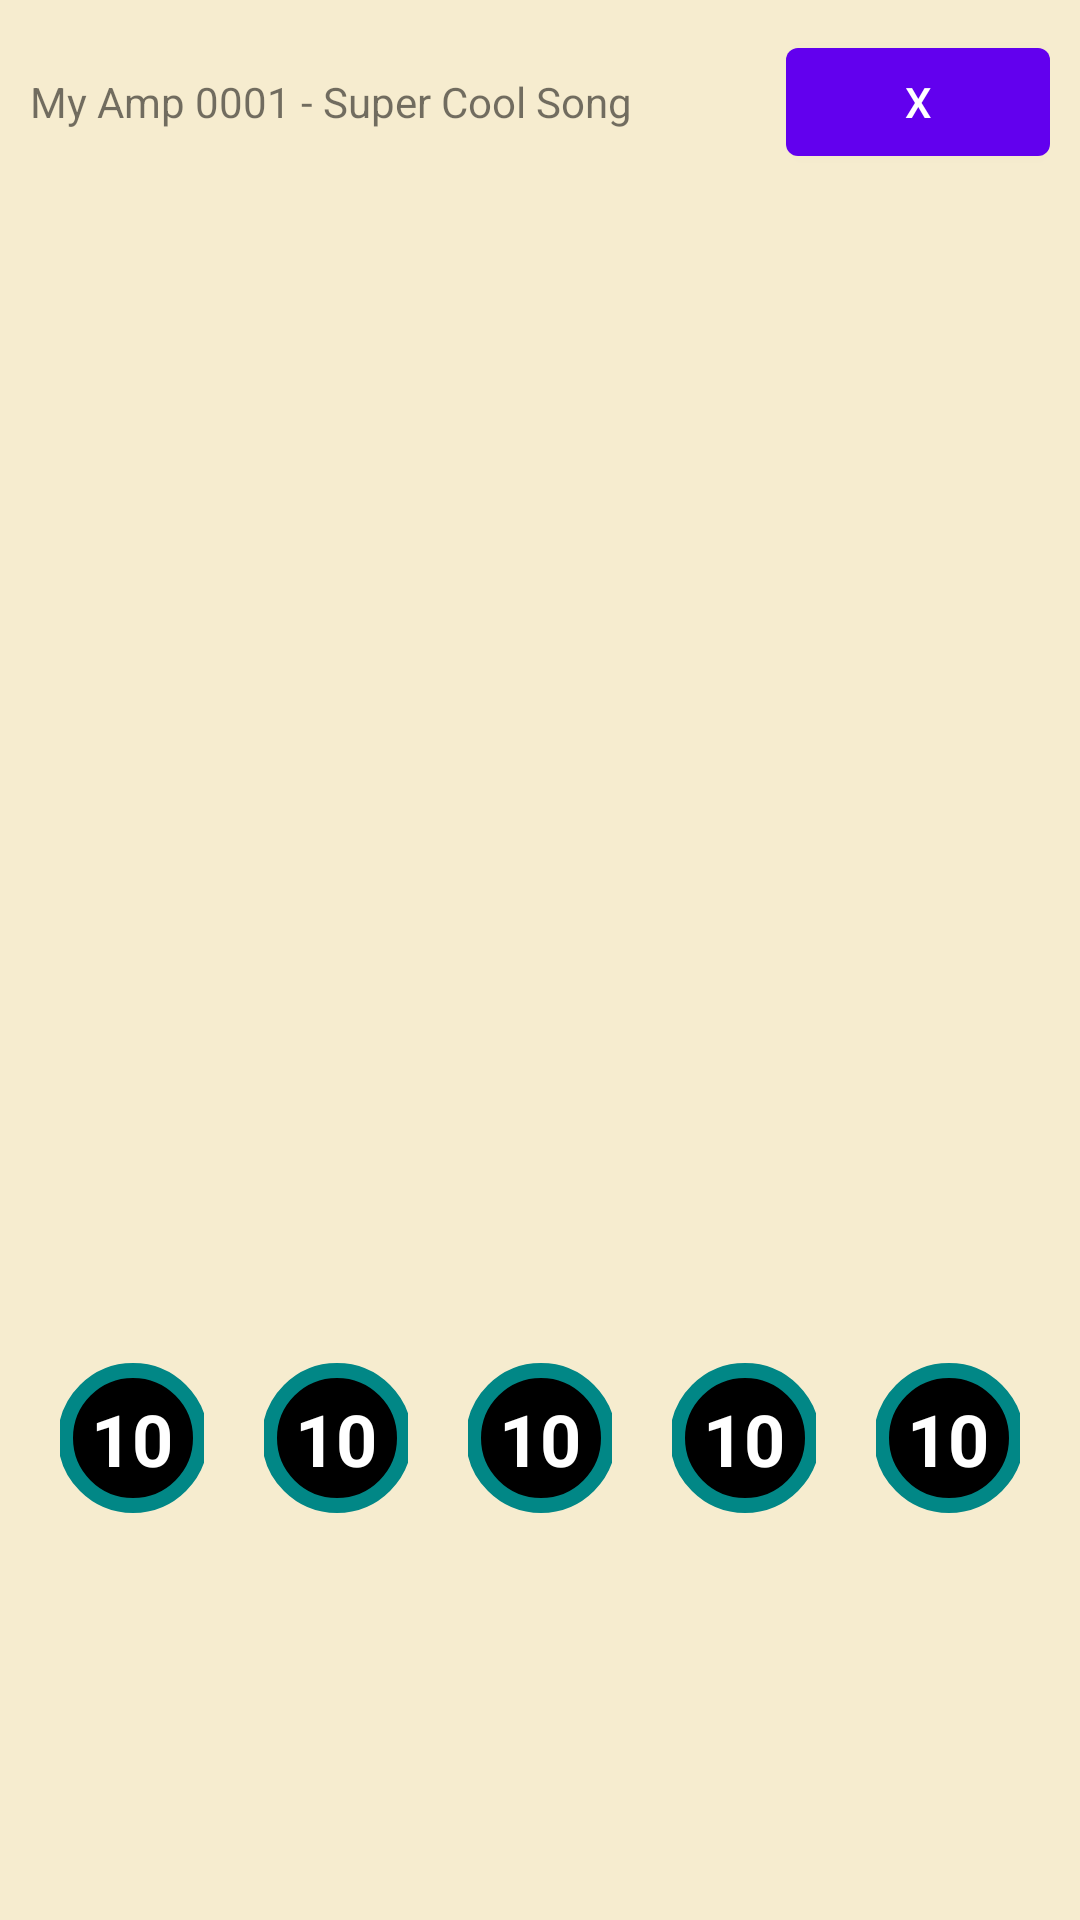

Icons on this 1080px×1920px Android screen, each with the point to tap as [x,y]:
dial circle: [132,1438], [336,1438], [540,1438], [744,1438], [948,1438]
